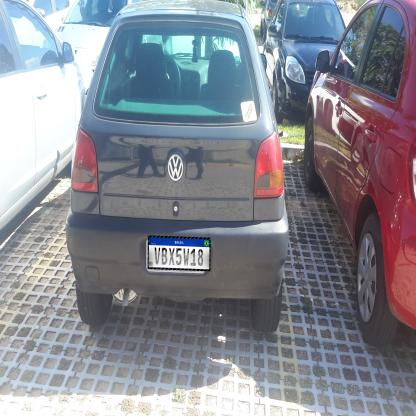PlacaM: (148, 236, 210, 272)
